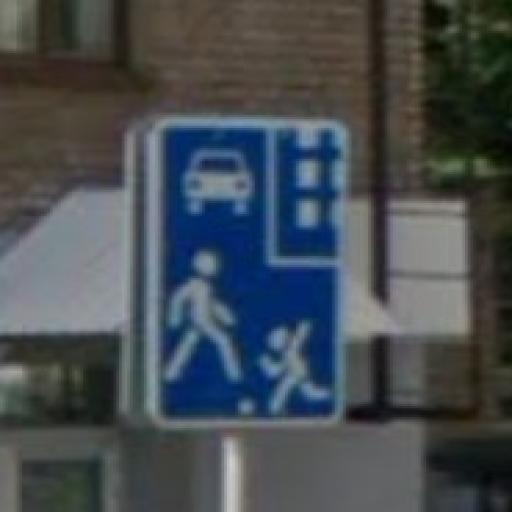traffic_sign: (150, 116, 350, 425)
